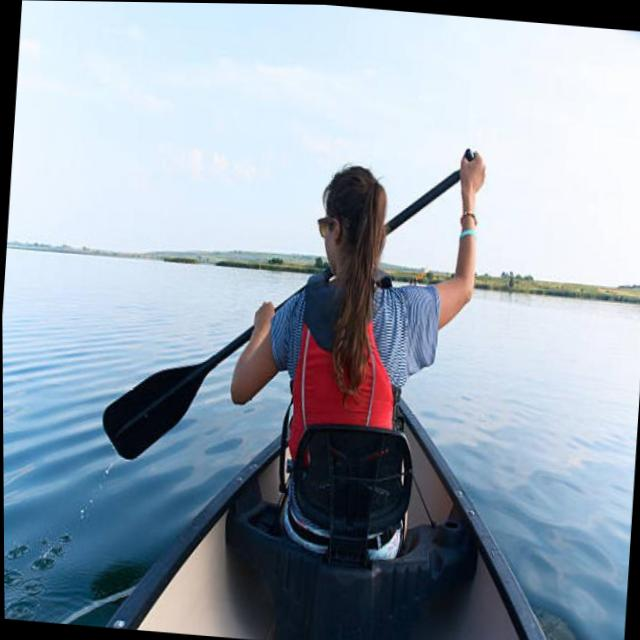no helmet: (307, 155, 392, 279)
